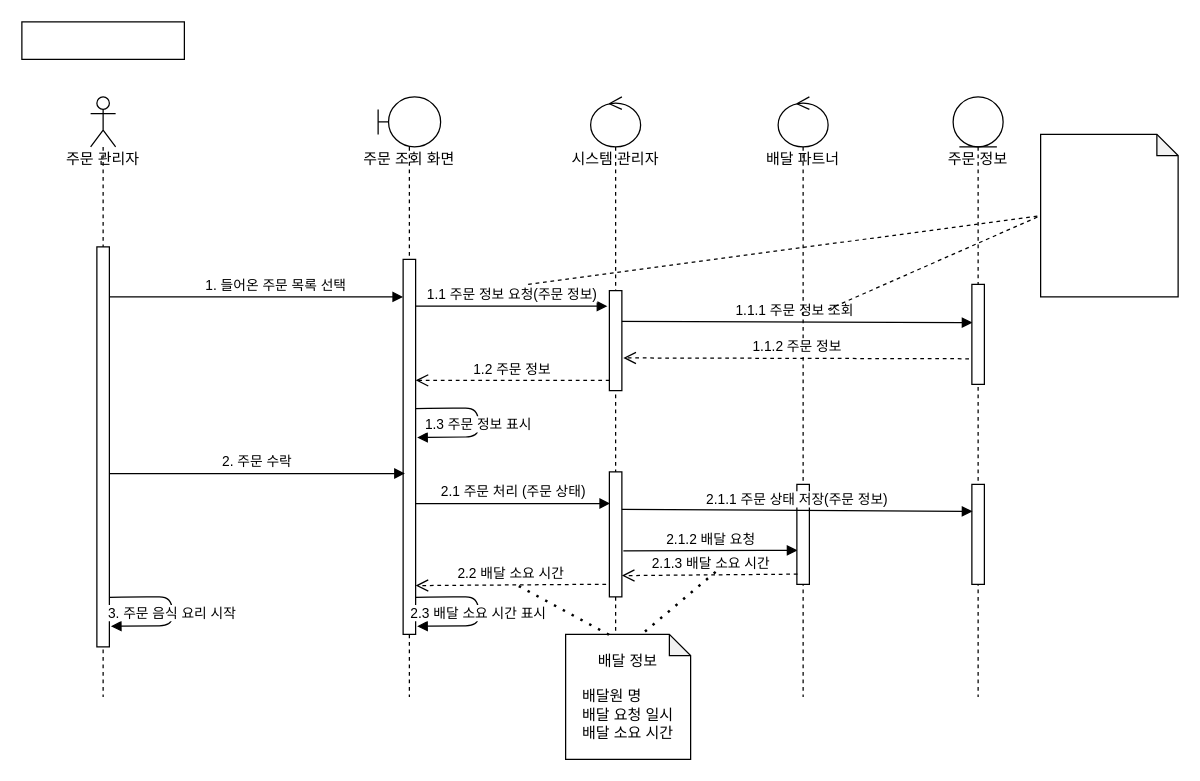
This 1200x781 diagram has some shape labels left out. Here are the shapes that lost their labels. From the top down, the centre of each, then its label:
At point 102,40: "주문 관리하기".
At point 1108,215: "주문 정보 -고객 명 -회원 ID -수신자 명 -음식 목록 -금액 -주문 일시 -주문 상태".
